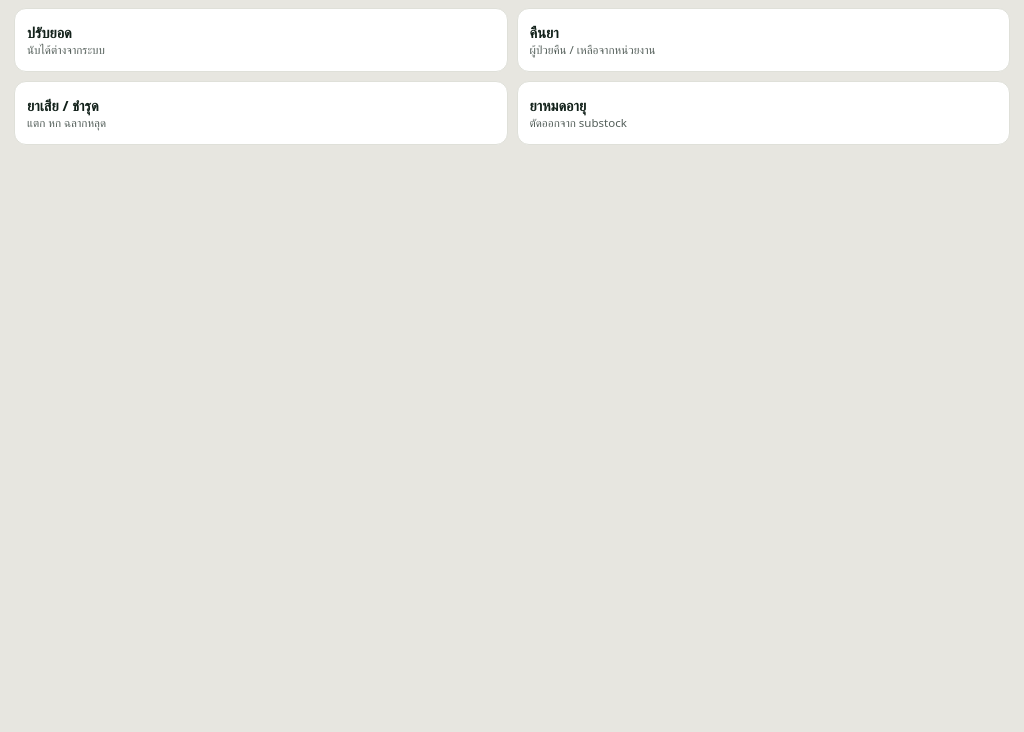
AdjustScreen — คืนยา reason chips regression › "อื่นๆ" reveals a free-text input, and the typed text itself becomes the saved reason
Click the button "คืนยา ผู้ป่วยคืน / เหลือจากหน่วยงาน" at x=592, y=50, box [516,8,1010,72]
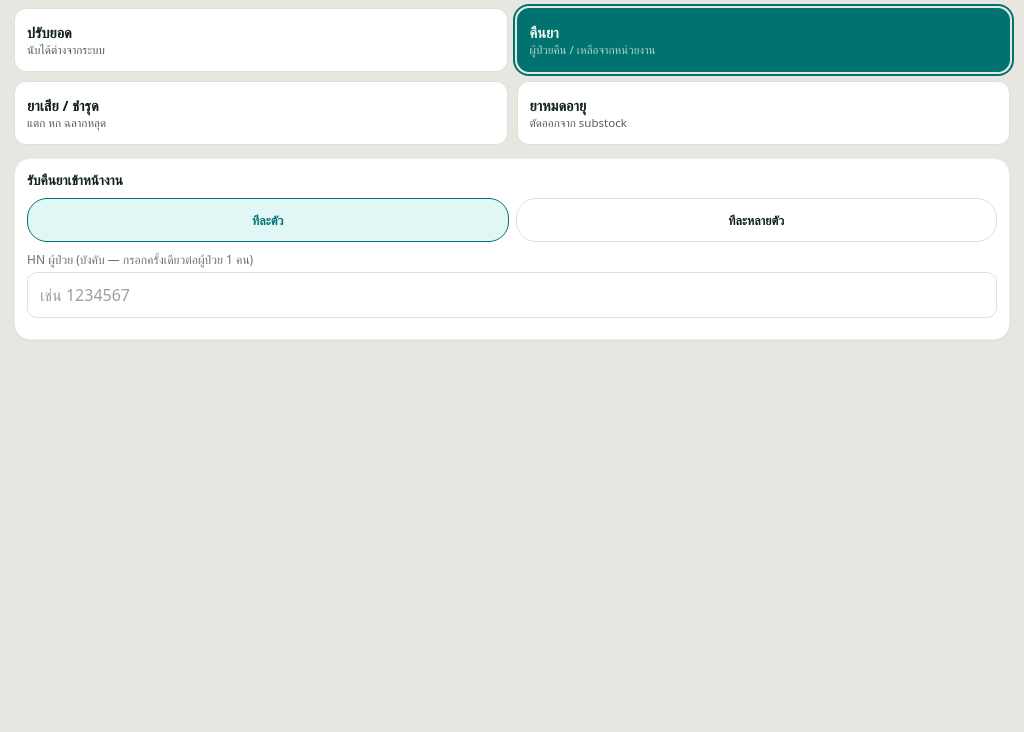
Type "0010643" into the field with placeholder "เช่น 1234567" at x=512, y=295, box [27,272,997,318]
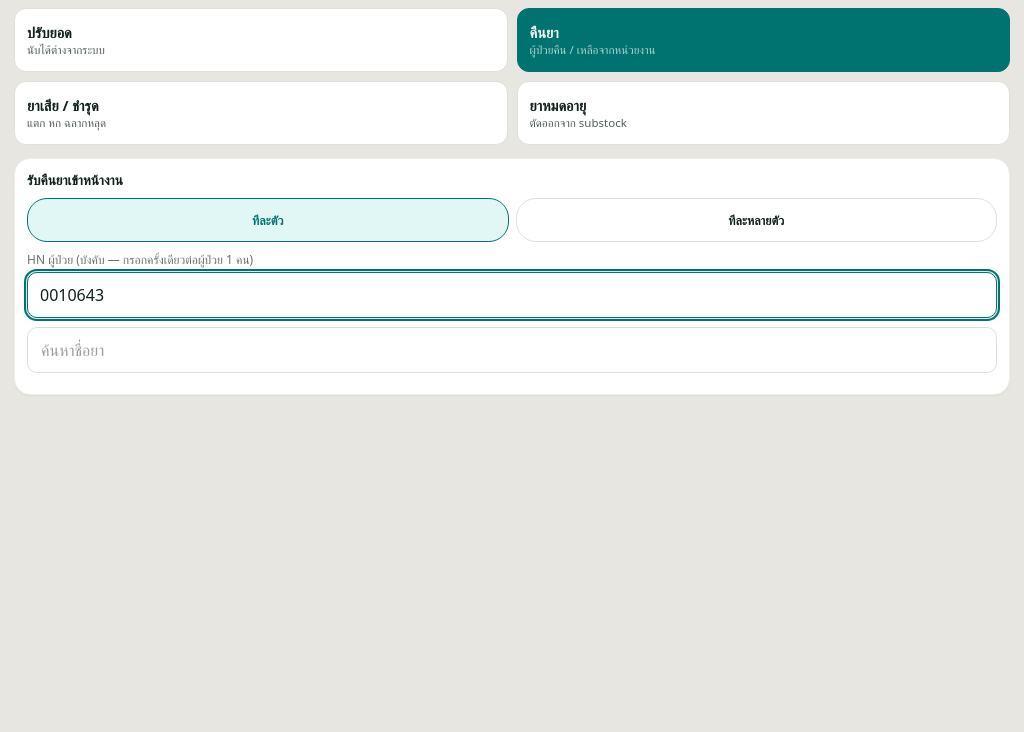
Type "Paracetamol" into the field with placeholder "ค้นหาชื่อยา" at x=512, y=350, box [27,327,997,373]
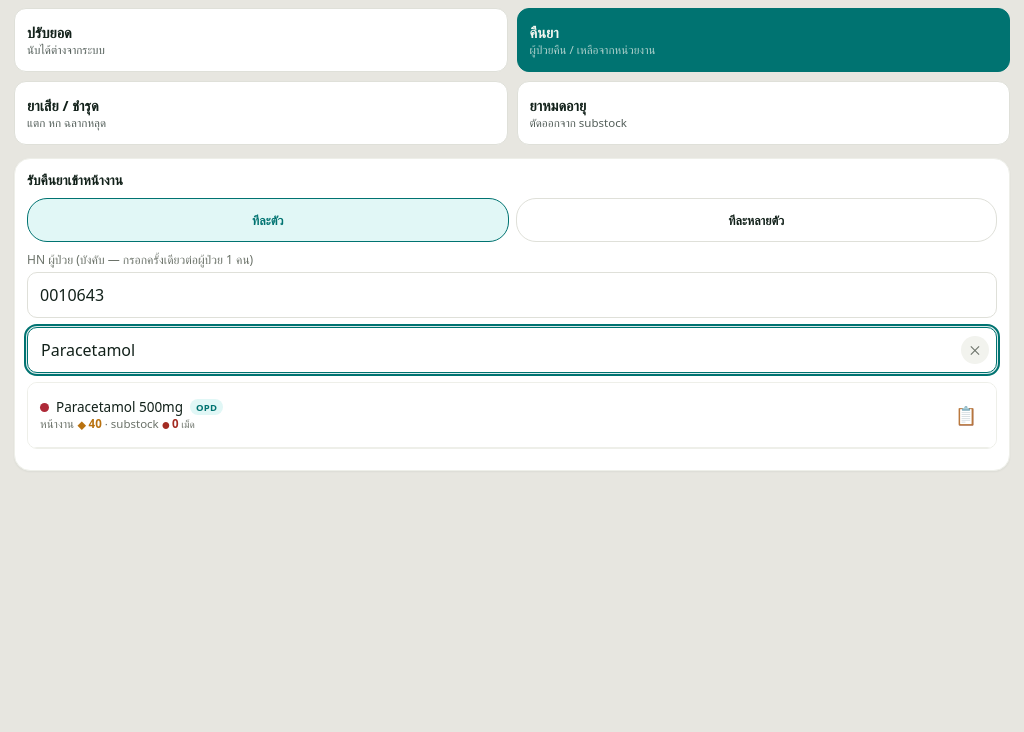
Click the text "Paracetamol 500mg" at x=132, y=407, box [40,398,223,416]
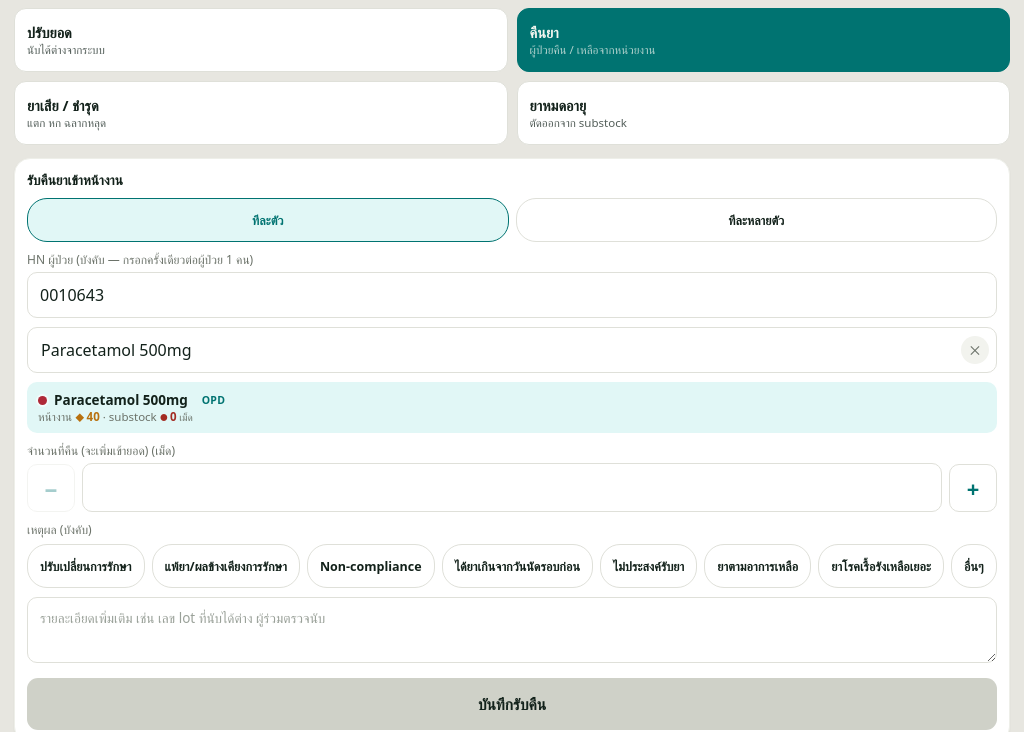
Check: the field with placeholder "ระบุเหตุผลการคืนยา" is not shown
Click the button "อื่นๆ" at x=974, y=566, box [951,544,997,588]
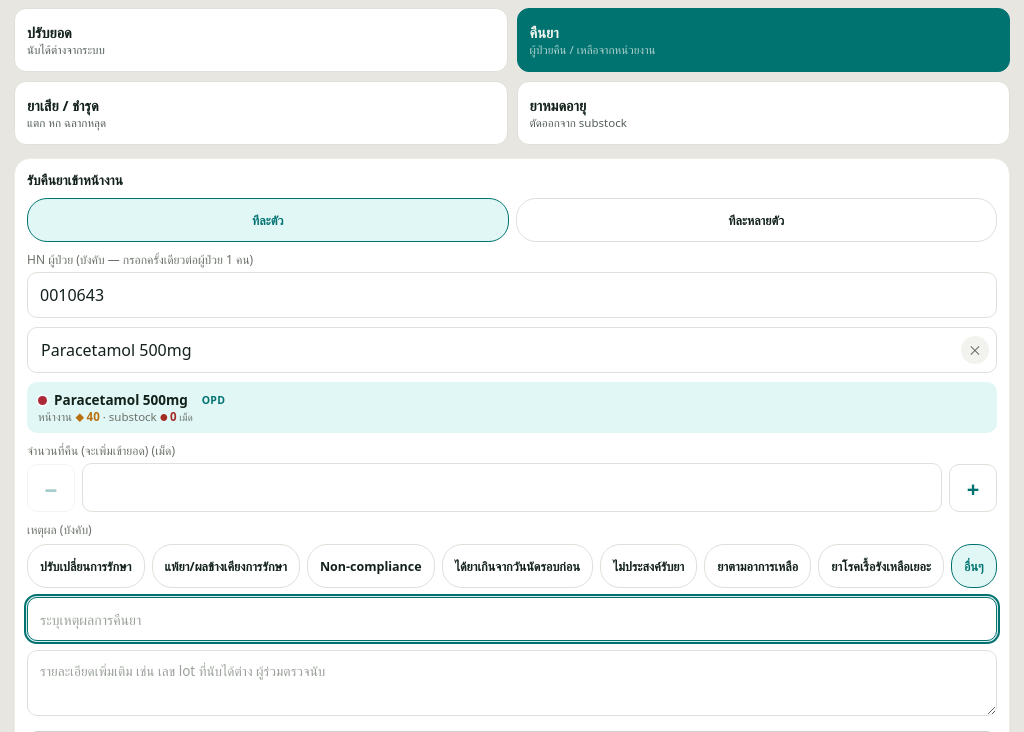
Type "ผู้ป่วยเสียชีวิต" into the field with placeholder "ระบุเหตุผลการคืนยา" at x=512, y=619, box [27,597,997,641]
Type "5" into the field below "จำนวนที่คืน (จะเพิ่มเข้ายอด)" at x=512, y=488, box [82,463,942,512]
(page scrolled)
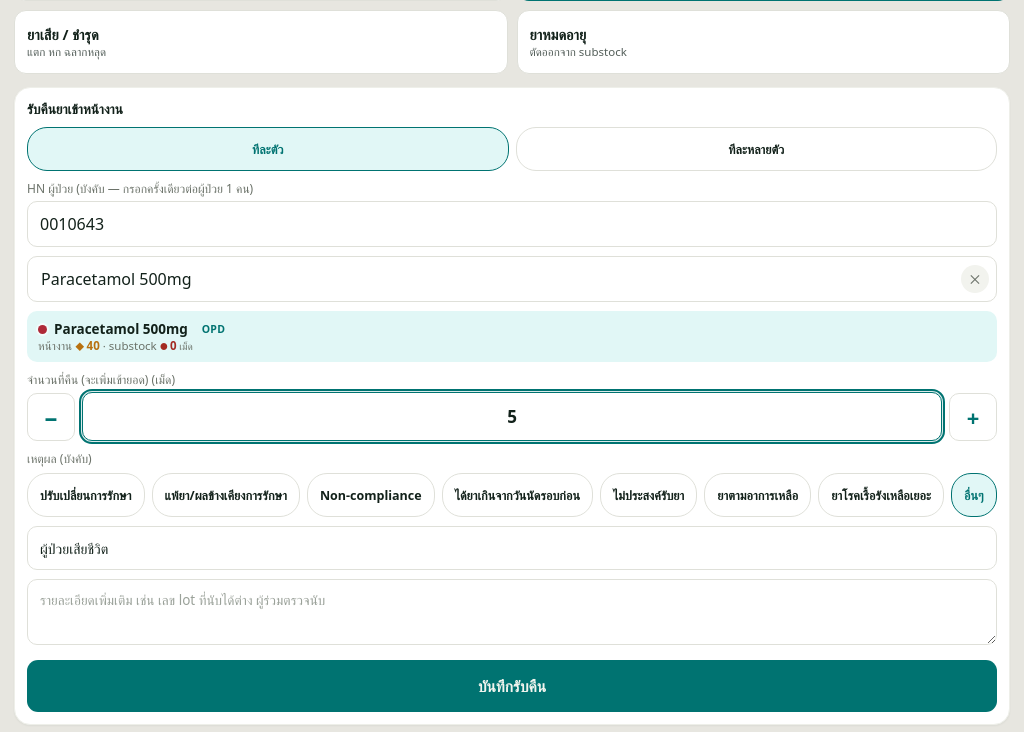
Check: the button "บันทึกรับคืน" is enabled, box [27,660,997,712]
